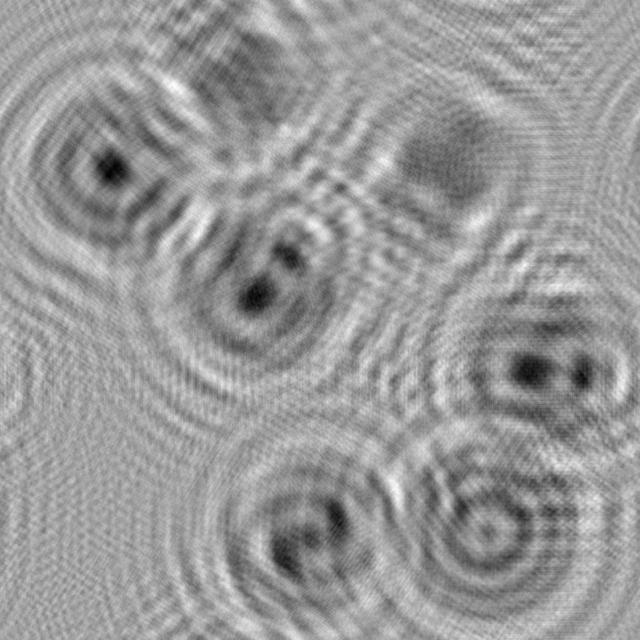P: (0, 38, 227, 290)
Q: (344, 387, 640, 640)
R: (124, 149, 390, 424), (405, 237, 640, 482)
S: (169, 414, 431, 640)
T: (307, 35, 576, 290), (89, 0, 360, 186)
